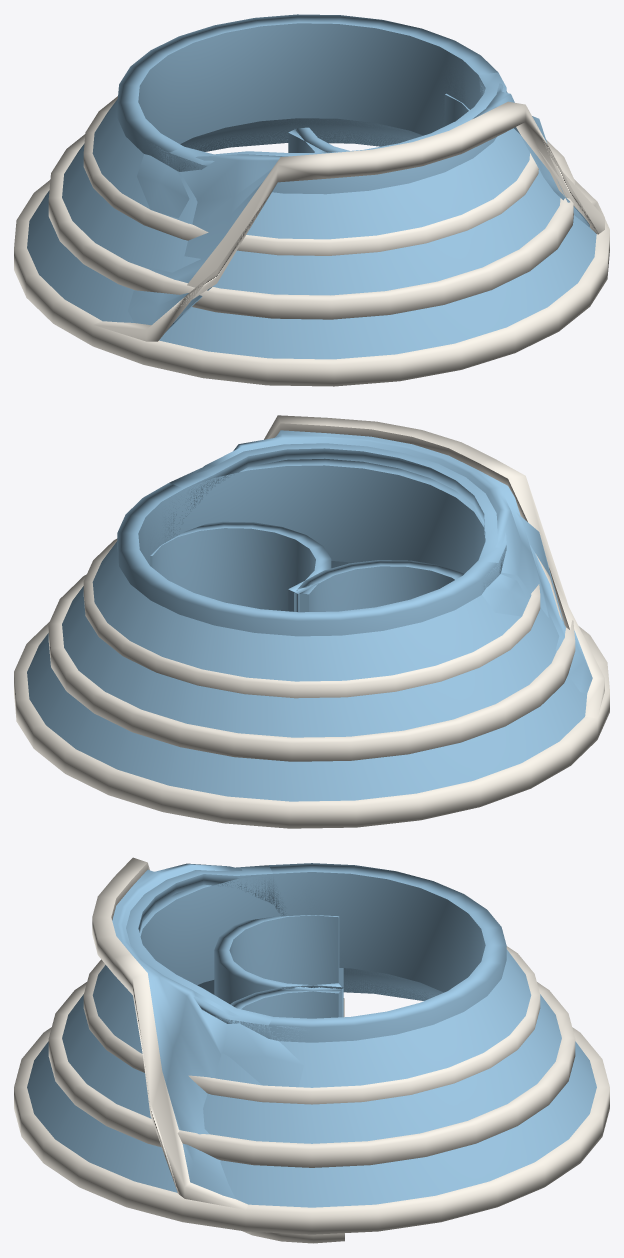
The model's file is buttoned_lace_skirt.glb.
3 views of the same model, one above another, from view 1: azimuth 30°, elevation 25°; view 2: azimuth 150°, elevation 25°; view 3: azimuth 270°, elevation 25° (orthographic).
Visible parts, largest first — view 1: buttoned_lace_skirt_Body, buttoned_lace_skirt_Body_sit, buttoned_lace_skirt_LegR_sit; view 2: buttoned_lace_skirt_Body, buttoned_lace_skirt_Body_sit, buttoned_lace_skirt_LegR_sit, buttoned_lace_skirt_LegL_sit; view 3: buttoned_lace_skirt_Body, buttoned_lace_skirt_Body_sit, buttoned_lace_skirt_LegL_sit, buttoned_lace_skirt_LegR_sit.
Part boxes in pixels (<box>): buttoned_lace_skirt_Body: <box>14,14,609,386</box>; buttoned_lace_skirt_Body_sit: <box>93,48,604,341</box>; buttoned_lace_skirt_LegR_sit: <box>294,93,469,152</box>; buttoned_lace_skirt_Body: <box>14,458,609,828</box>; buttoned_lace_skirt_Body_sit: <box>145,415,604,718</box>; buttoned_lace_skirt_LegR_sit: <box>150,521,331,612</box>; buttoned_lace_skirt_LegL_sit: <box>294,560,463,612</box>; buttoned_lace_skirt_Body: <box>14,863,609,1234</box>; buttoned_lace_skirt_Body_sit: <box>92,857,443,1209</box>; buttoned_lace_skirt_LegL_sit: <box>214,915,344,1017</box>; buttoned_lace_skirt_LegR_sit: <box>230,985,344,1243</box>.
Bounding box in the file's own units: 0.628 × 0.2847 × 0.628.
